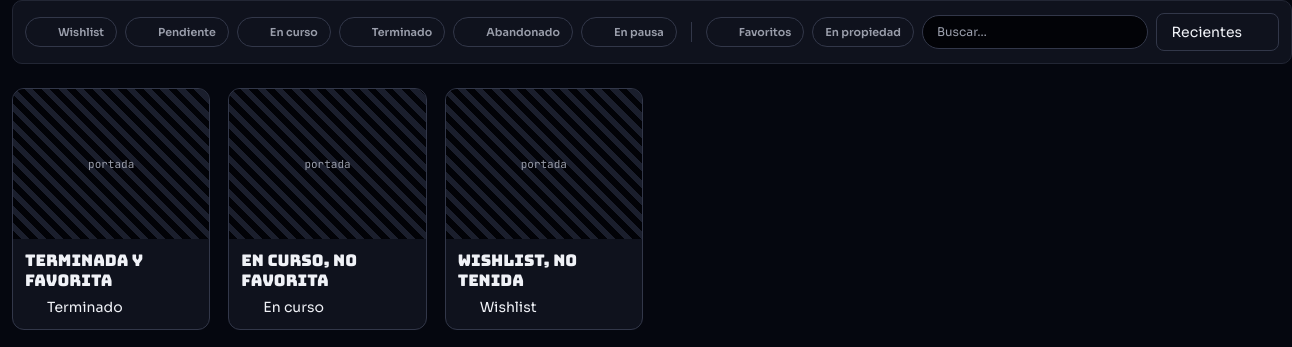
Test case: CategoryWorksBrowser › prioritizes the search-specific empty state when both a search and a filter match nothing
The image size is (1292, 347).
Click the button "Abandonado": (513, 32) [453,17,573,47]
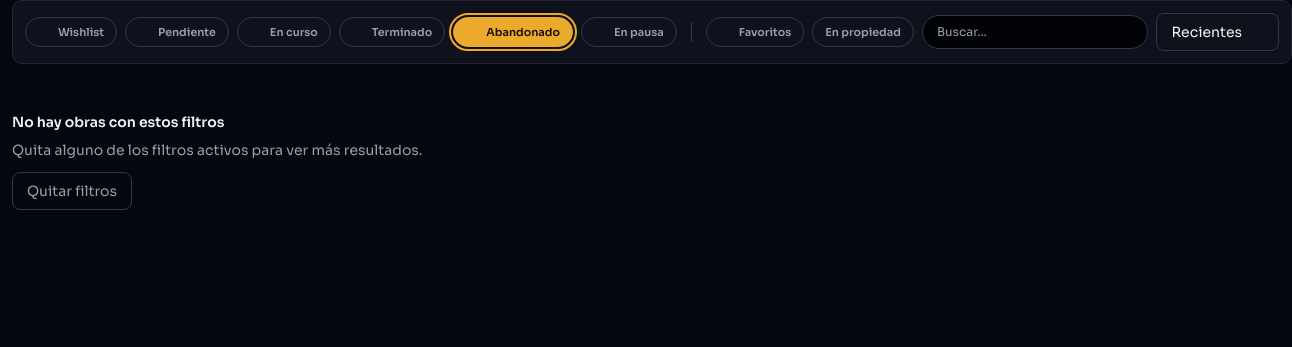
In the search field labelled "Buscar…": (1035, 32) [922,15,1148,49], type "algo"
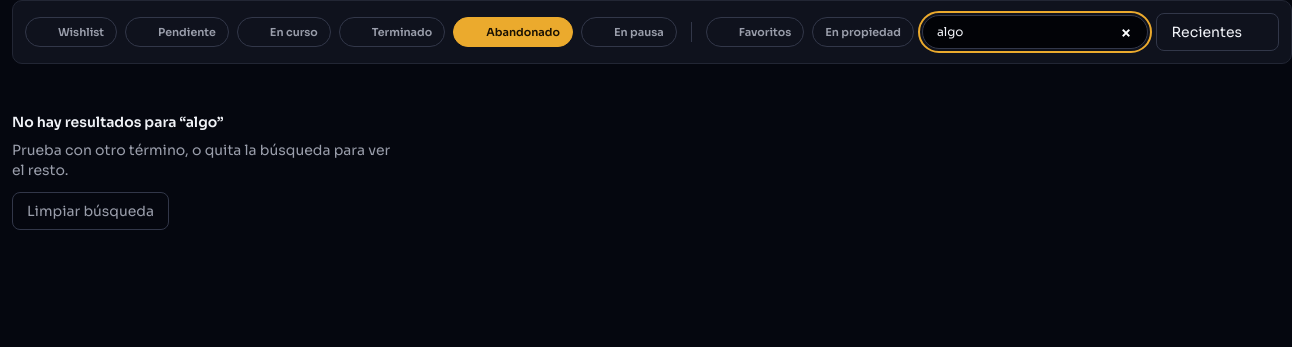
Now the heading "No hay resultados para “algo”" is shown, box [12,113,224,131]
Now the heading "No hay obras con estos filtros" is gone
